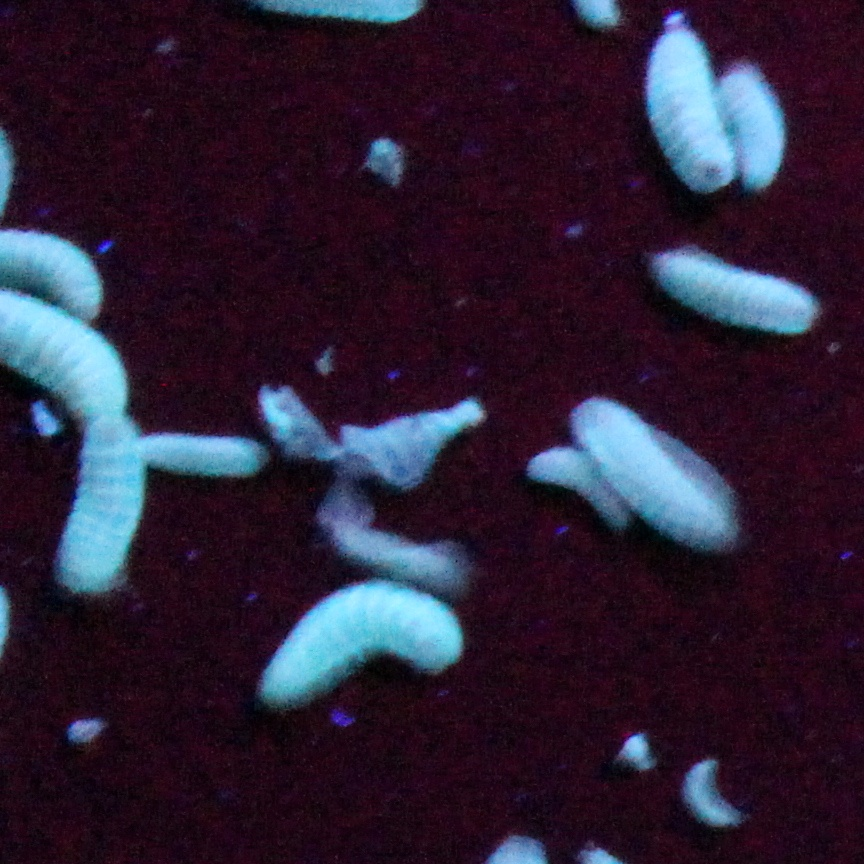larve: (566, 402, 730, 548), (265, 585, 459, 707), (631, 31, 729, 192), (656, 253, 810, 336), (80, 414, 126, 594), (718, 74, 784, 188), (525, 453, 621, 519), (140, 435, 266, 480), (677, 754, 744, 832)
